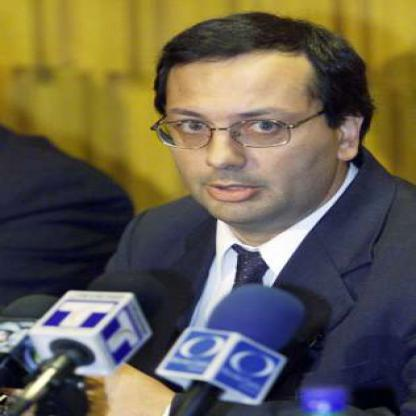face: (162, 24, 343, 229)
